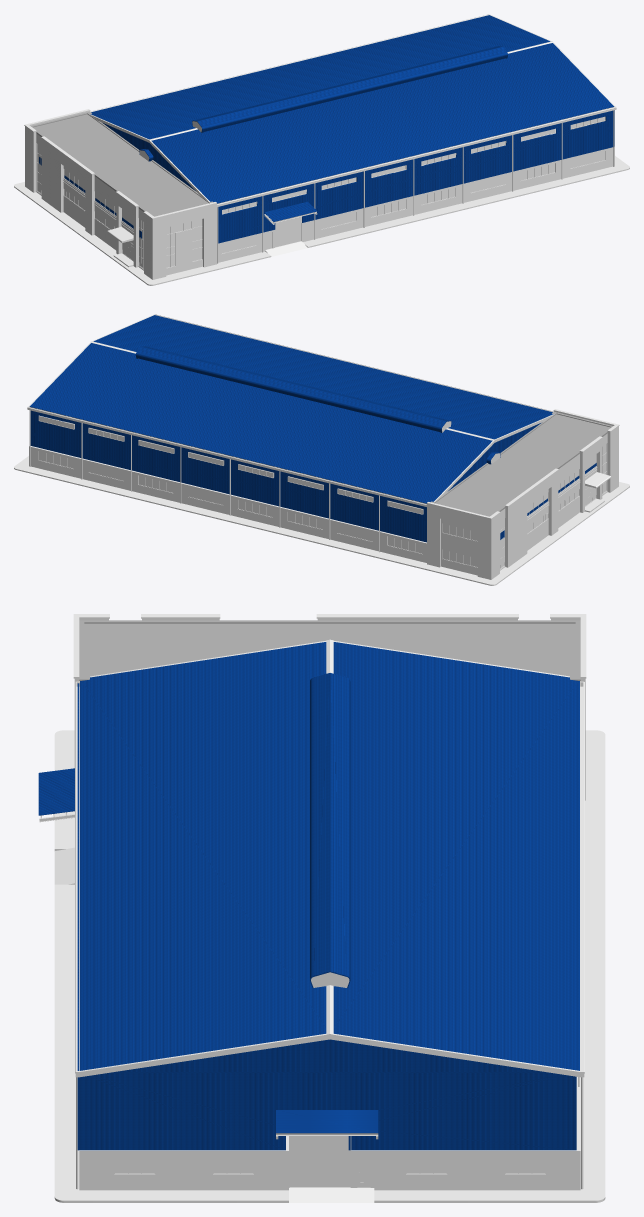
Rendered from Factory.gltf.
3 renders of one model, top to bottom at view 1: azimuth 30°, elevation 25°; view 2: azimuth 150°, elevation 25°; view 3: azimuth 270°, elevation 25°, orthographic. The views are drawn at different scales.
Parts seen in each view (by area): view 1: Group Mai, Group#134 [391697], Group#155 [391645], Group#181 [391690], Group#140 [391501], NocGioA, Group#170 [391680], Group#158 [391670], [373275], Group#153 [392082], Group#162 [391672], Group#112 [372384] (+9 smaller); view 2: Group Mai, Group#134 [391697], Group#155 [391645], Group#140 [391501], Group#181 [391690], NocGioA, Group#170 [391680], Group#162 [391672], Group#153 [392082], Group#158 [391670], [373275], Group#137 [391492] (+6 smaller); view 3: Group Mai, Group#134 [391697], Group#181 [391690], Group#155 [391645], Group#140 [391501], NocGioA, Group#135 [391698], Group#185 [391866], Group#22 [375787], Group#116 [372238], Group#170 [391680], Group#116 [372369] (+7 smaller).
Part boxes in pixels (<box>): Group Mai: <box>90,15,614,203</box>; Group#134 [391697]: <box>218,110,614,243</box>; Group#155 [391645]: <box>31,111,213,216</box>; Group#181 [391690]: <box>14,156,629,285</box>; Group#140 [391501]: <box>218,126,614,261</box>; NocGioA: <box>192,46,507,132</box>; Group#170 [391680]: <box>41,136,138,267</box>; Group#158 [391670]: <box>143,202,216,279</box>; [373275]: <box>63,187,202,274</box>; Group#153 [392082]: <box>36,133,202,245</box>; Group#162 [391672]: <box>24,109,90,192</box>; Group#112 [372384]: <box>166,219,201,267</box>; Group Mai: <box>29,315,553,503</box>; Group#134 [391697]: <box>30,410,426,542</box>; Group#155 [391645]: <box>430,411,612,516</box>; Group#140 [391501]: <box>29,421,426,561</box>; Group#181 [391690]: <box>14,456,629,585</box>; NocGioA: <box>135,346,451,432</box>; Group#170 [391680]: <box>505,436,602,567</box>; Group#162 [391672]: <box>427,502,500,579</box>; Group#153 [392082]: <box>441,433,607,548</box>; Group#158 [391670]: <box>553,409,619,492</box>; [373275]: <box>505,466,607,565</box>; Group#137 [391492]: <box>29,465,607,575</box>; Group Mai: <box>80,642,579,1070</box>; Group#134 [391697]: <box>77,683,576,1150</box>; Group#181 [391690]: <box>54,730,605,1202</box>; Group#155 [391645]: <box>79,620,580,681</box>; Group#140 [391501]: <box>79,1077,580,1187</box>; NocGioA: <box>310,673,350,988</box>; Group#135 [391698]: <box>114,1039,545,1072</box>; Group#185 [391866]: <box>80,1034,579,1076</box>; Group#22 [375787]: <box>289,1136,350,1187</box>; Group#116 [372238]: <box>276,1110,378,1133</box>; Group#170 [391680]: <box>141,614,518,620</box>; Group#116 [372369]: <box>38,768,74,815</box>.
Size of what is drawn, in the model's own units: 69.23 by 11.63 by 34.48.
Materials: 52 (3 with a texture image).
